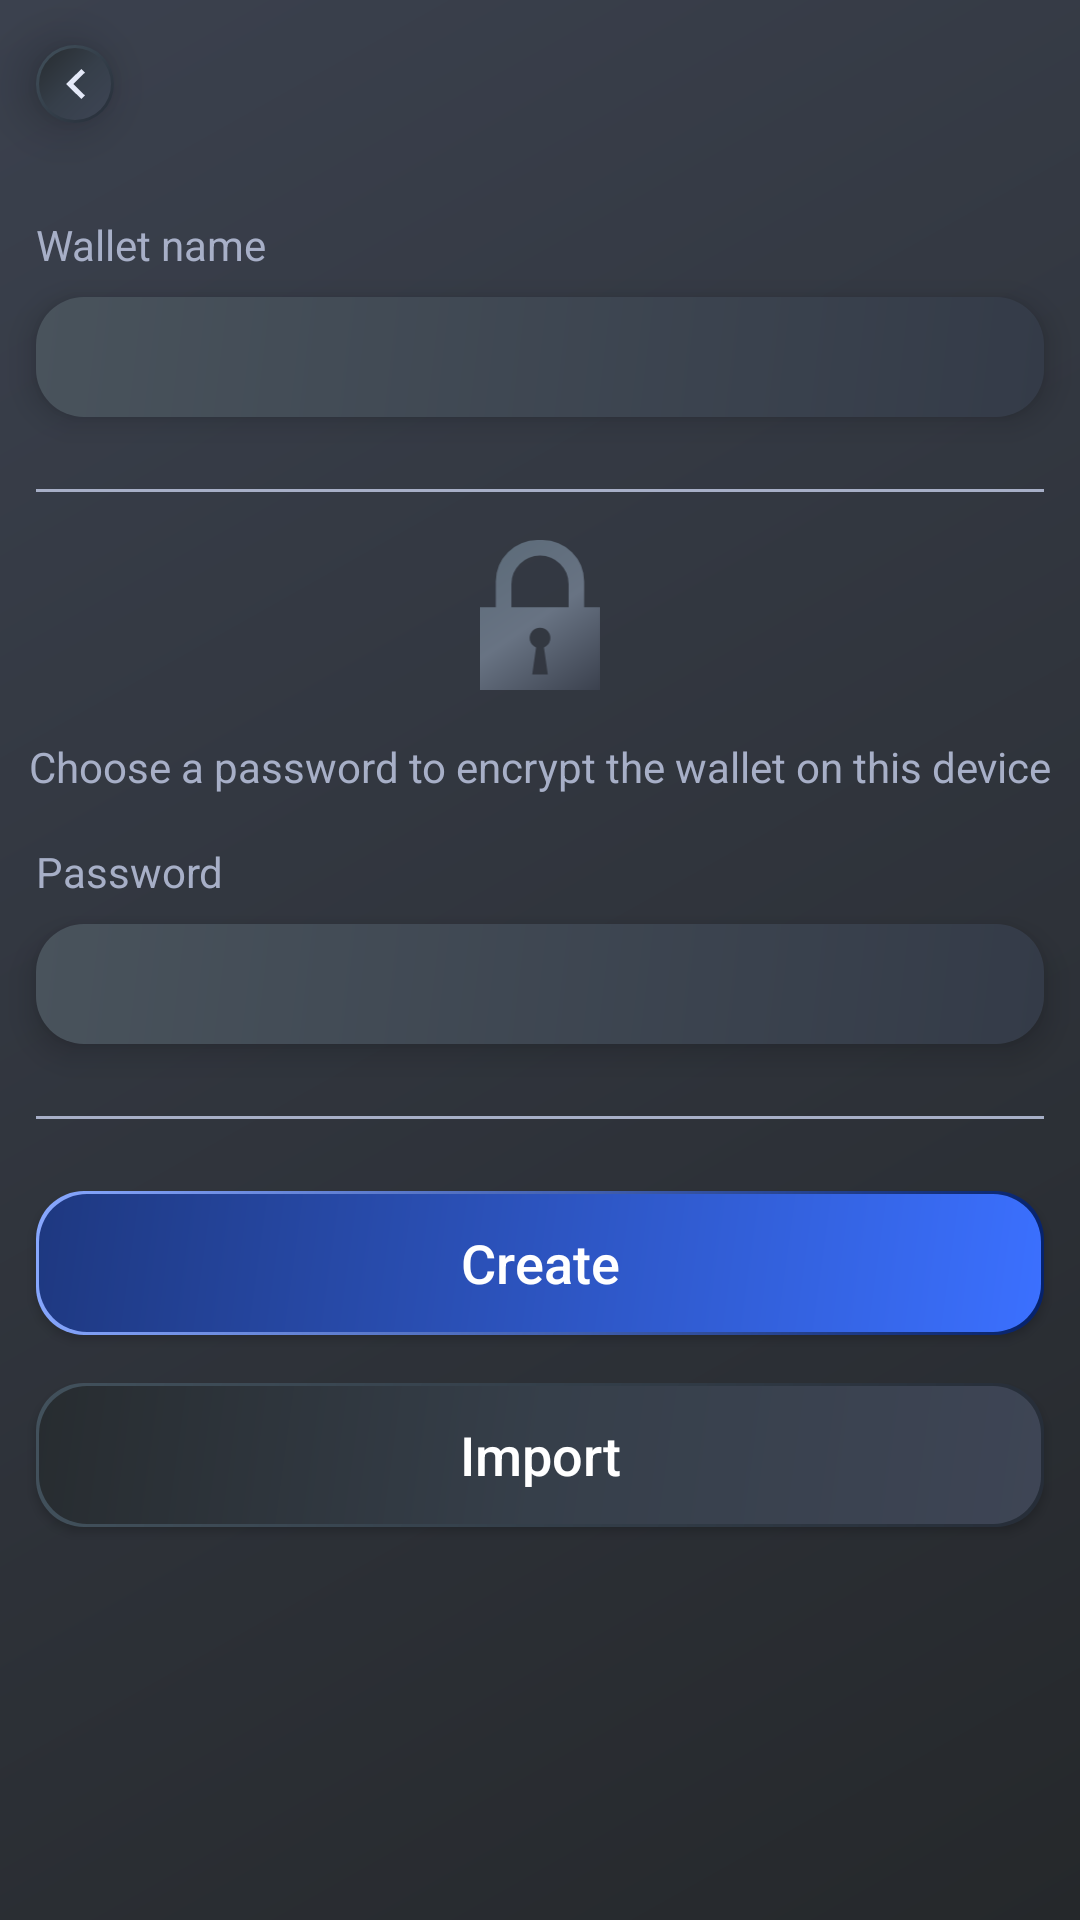

Icons on this 1080*1920 Android screen, each with the point to tap as (x,y):
back: (75,84)
lock: (540,615)
